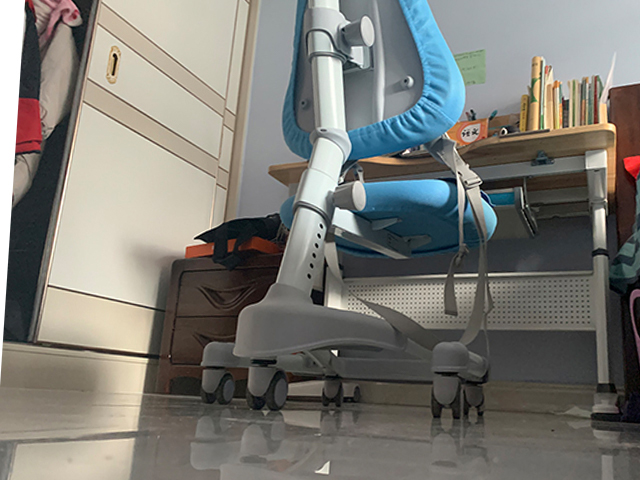cabinet: (4, 1, 261, 392), (156, 250, 282, 394)
table: (267, 122, 622, 422)
